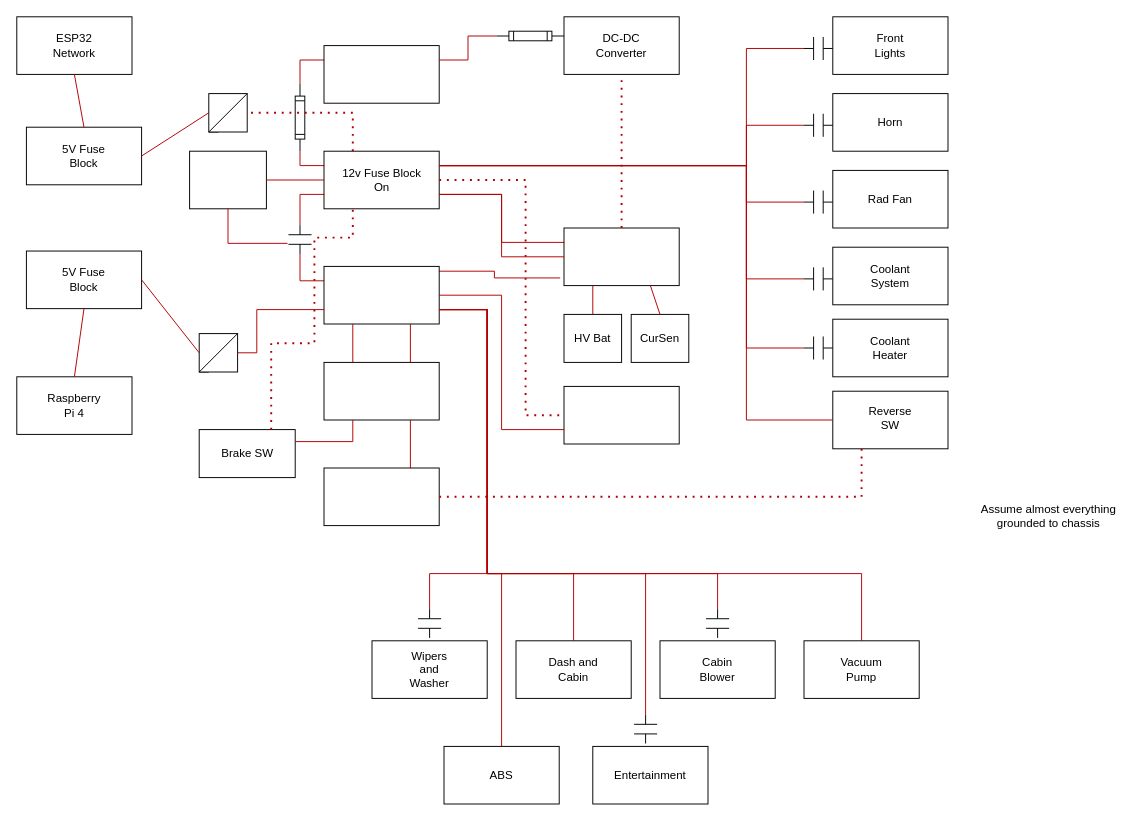
The diagram is 1138 pixels wide and 821 high, and some of its shapes have lost their labels. Each missing label, with the box of its shape:
12v Battery: (323, 45, 439, 103)
12v Fuse Block Switched: (323, 265, 439, 324)
Key SW: (189, 150, 266, 209)
Leaf Inverter: (563, 385, 679, 444)
MCU: (563, 227, 679, 286)
Rear Lights: (323, 467, 439, 526)
VCU: (323, 361, 439, 420)
